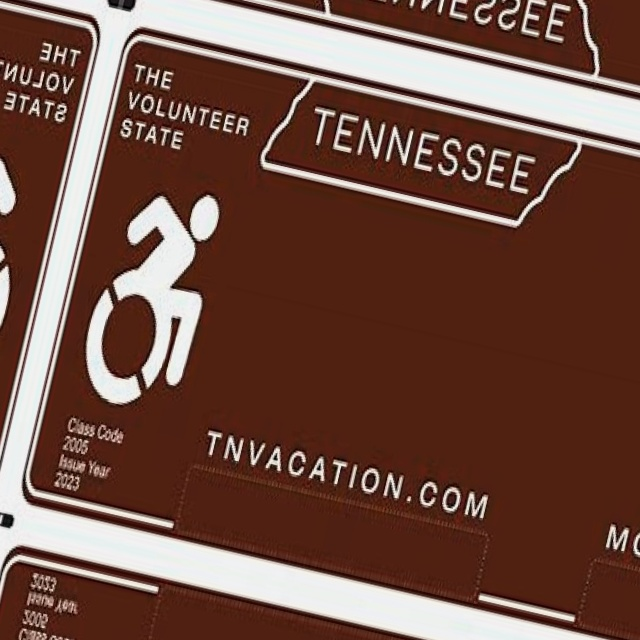ISA: (72, 175, 229, 419), (0, 132, 42, 375)
